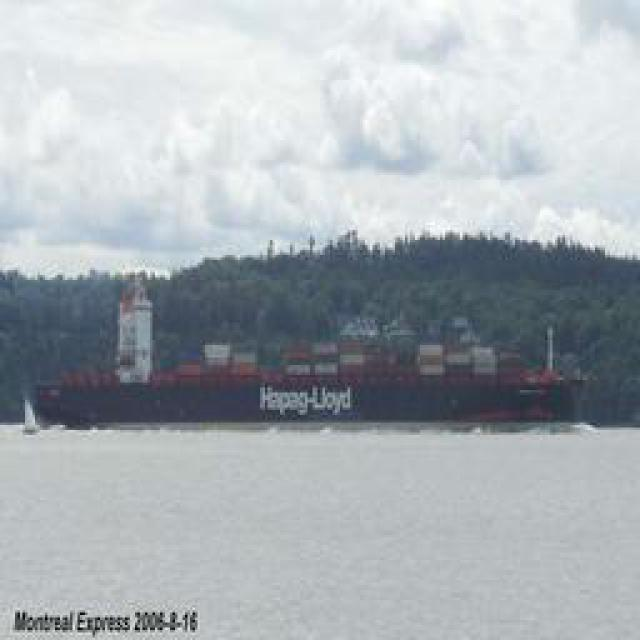Ship: (24, 327, 574, 430)
